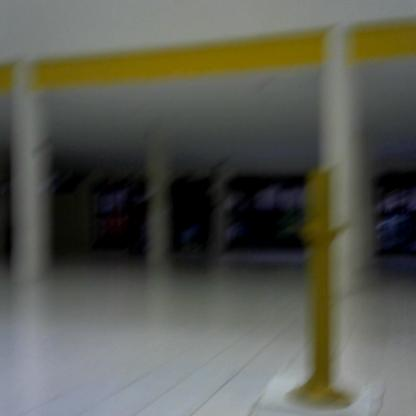pole: (289, 164, 361, 412)
